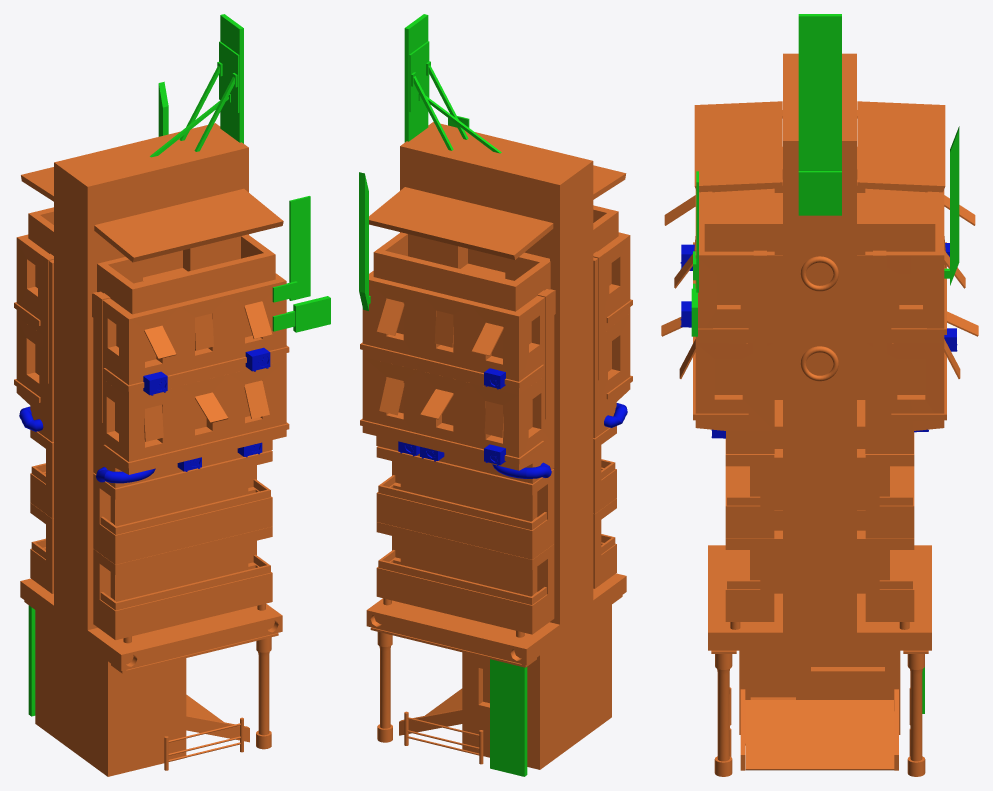
Rendered from Novo_predio.fbx.
3 views of the same model, side by side, from view 1: azimuth 30°, elevation 25°; view 2: azimuth 150°, elevation 25°; view 3: azimuth 270°, elevation 25° (orthographic). The views are drawn at different scales.
Parts seen in each view (by area): view 1: predio.001_low, predio.026_low, predio.021_low, predio.005_low, predio.019_low, predio.020_low, predio.022_low, predio.016_low, predio.013_low, predio.031_low, predio.007_low, predio.004_low (+6 smaller); view 2: predio.001_low, predio.026_low, predio.021_low, predio.019_low, predio.020_low, predio.005_low, predio.022_low, predio.016_low, predio.025_low, predio.013_low, predio.007_low, predio.018_low (+6 smaller); view 3: predio.001_low, predio.026_low, predio.021_low, predio.016_low, predio.004_low, predio.019_low, predio.020_low, predio.013_low, predio.005_low, predio.022_low, predio.007_low, predio.018_low (+2 smaller).
Part boxes in pixels (box(x1,y1,x2,y2)): predio.001_low: box(20, 123, 282, 670); predio.026_low: box(14, 234, 289, 422); predio.021_low: box(14, 316, 289, 488); predio.005_low: box(35, 608, 186, 776); predio.019_low: box(30, 430, 272, 564); predio.020_low: box(30, 503, 272, 643); predio.022_low: box(28, 207, 275, 314); predio.016_low: box(21, 167, 283, 262); predio.013_low: box(219, 14, 243, 143); predio.031_low: box(289, 196, 310, 300); predio.007_low: box(256, 637, 271, 749); predio.004_low: box(186, 694, 249, 742); predio.001_low: box(366, 122, 626, 664); predio.026_low: box(360, 232, 632, 419); predio.021_low: box(360, 314, 632, 483); predio.019_low: box(376, 426, 616, 559); predio.020_low: box(376, 498, 616, 637); predio.005_low: box(462, 603, 611, 769); predio.022_low: box(373, 205, 618, 311); predio.016_low: box(369, 165, 626, 259); predio.025_low: box(490, 659, 527, 776); predio.013_low: box(404, 14, 429, 142); predio.007_low: box(377, 632, 392, 742); predio.018_low: box(359, 172, 370, 310); predio.001_low: box(708, 53, 931, 650); predio.026_low: box(664, 188, 975, 392); predio.021_low: box(661, 311, 978, 453); predio.016_low: box(694, 101, 945, 192); predio.004_low: box(740, 689, 898, 770); predio.019_low: box(725, 400, 914, 538); predio.020_low: box(725, 510, 914, 629); predio.013_low: box(798, 14, 841, 215); predio.005_low: box(739, 650, 900, 734); predio.022_low: box(704, 147, 935, 255); predio.007_low: box(714, 654, 925, 776); predio.018_low: box(944, 126, 959, 285).
Bounding box in the file's own units: 953 × 2967 × 1111.
